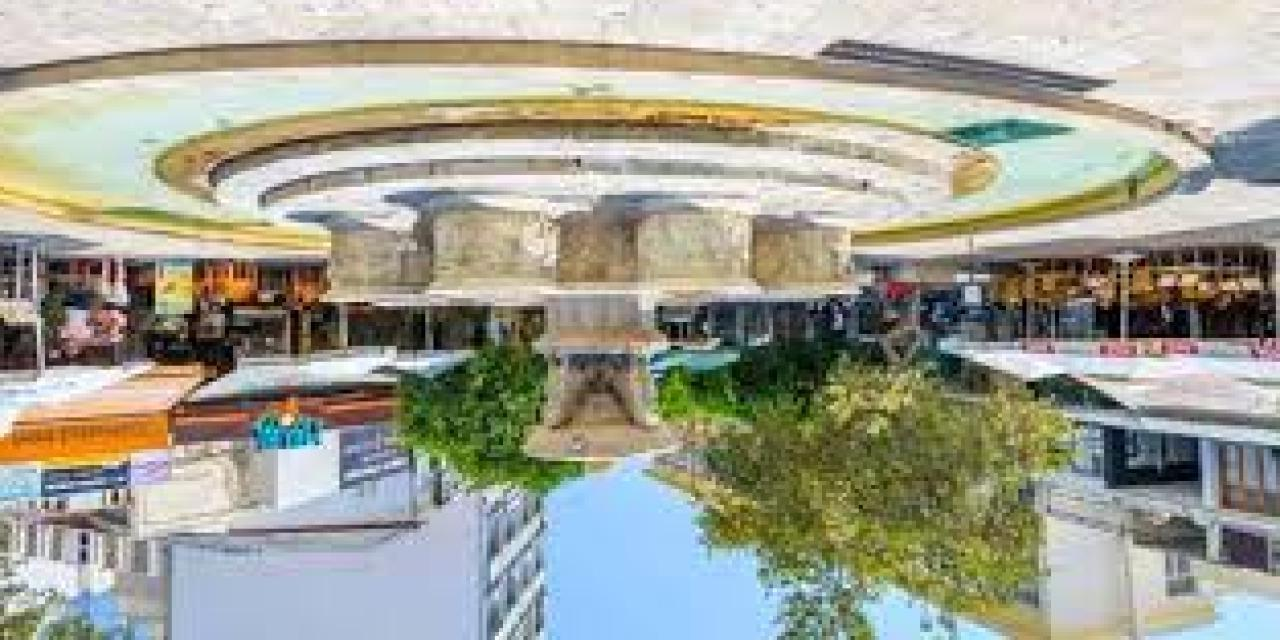Liontaria: (325, 205, 846, 455)
